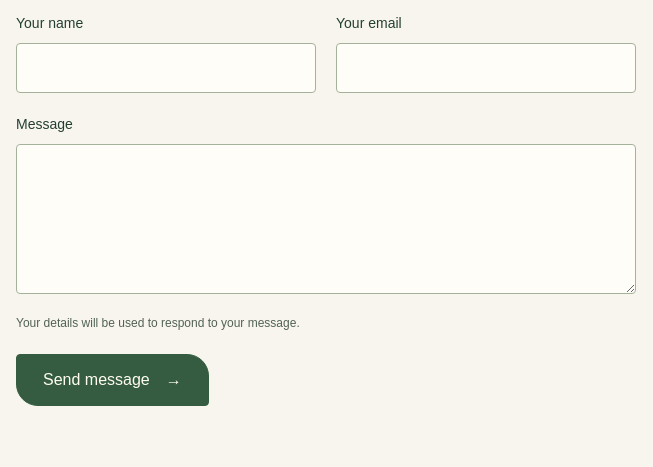
Test case: posts URL-encoded fields and resets only after a successful response
The image size is (653, 467).
In the field labelled "Your name": (166, 68) [16,43,316,93], type "Test Visitor"
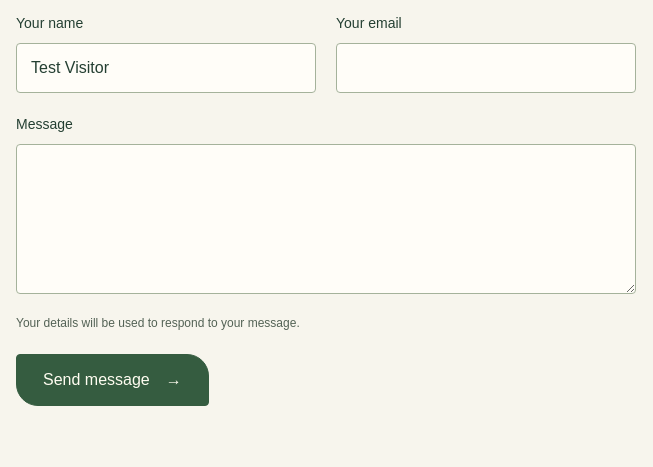
In the field labelled "Your email": (486, 68) [336,43,636,93], type "visitor@example.com"
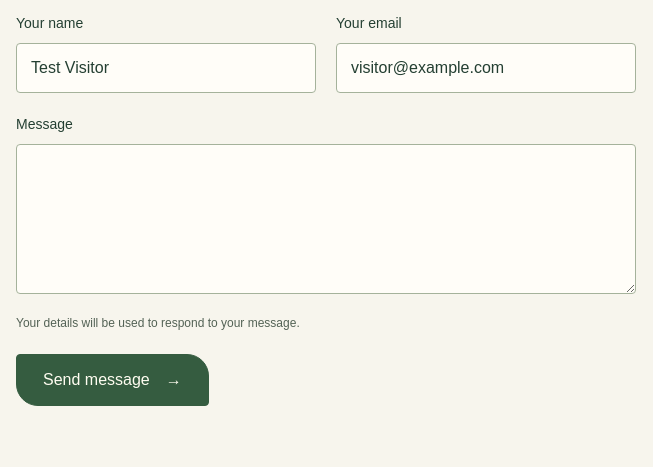
In the text box labelled "Message": (326, 219) [16,144,636,294], type "A question about your work & projects."
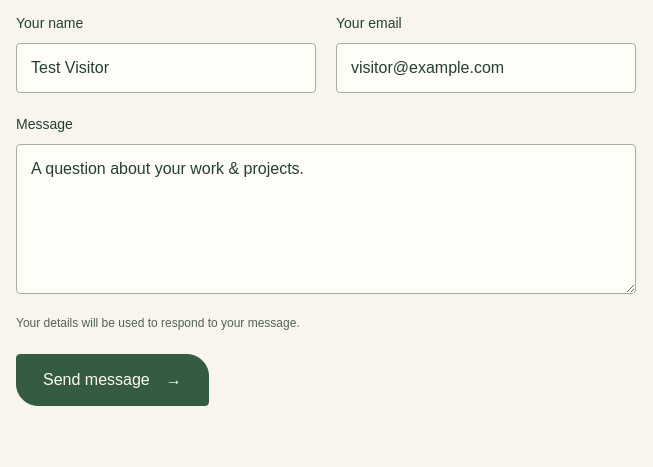
Submit the form
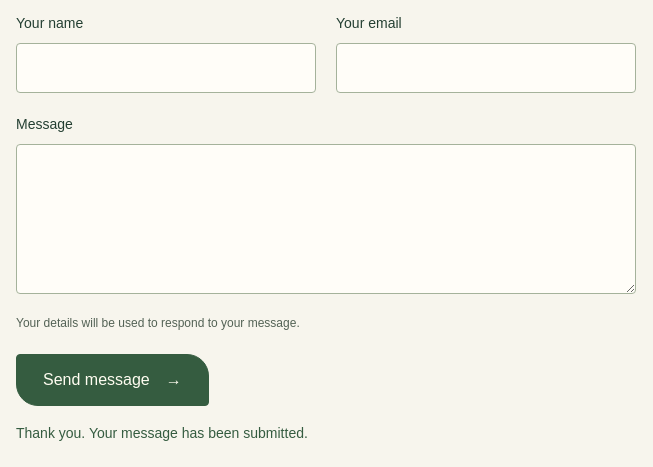
Expected: the text "Thank you. Your message has been submitted." is shown, [16,425,308,441]
Expected: the text box labelled "Message" is empty, [16,144,636,294]
